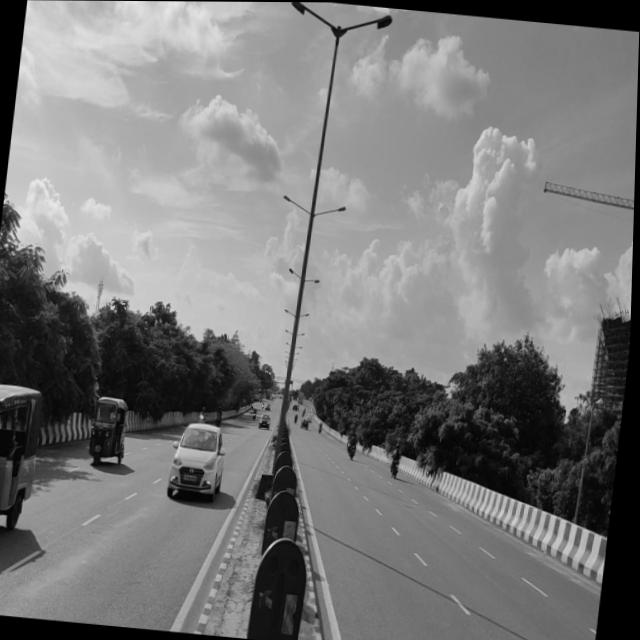car: (162, 418, 235, 509)
